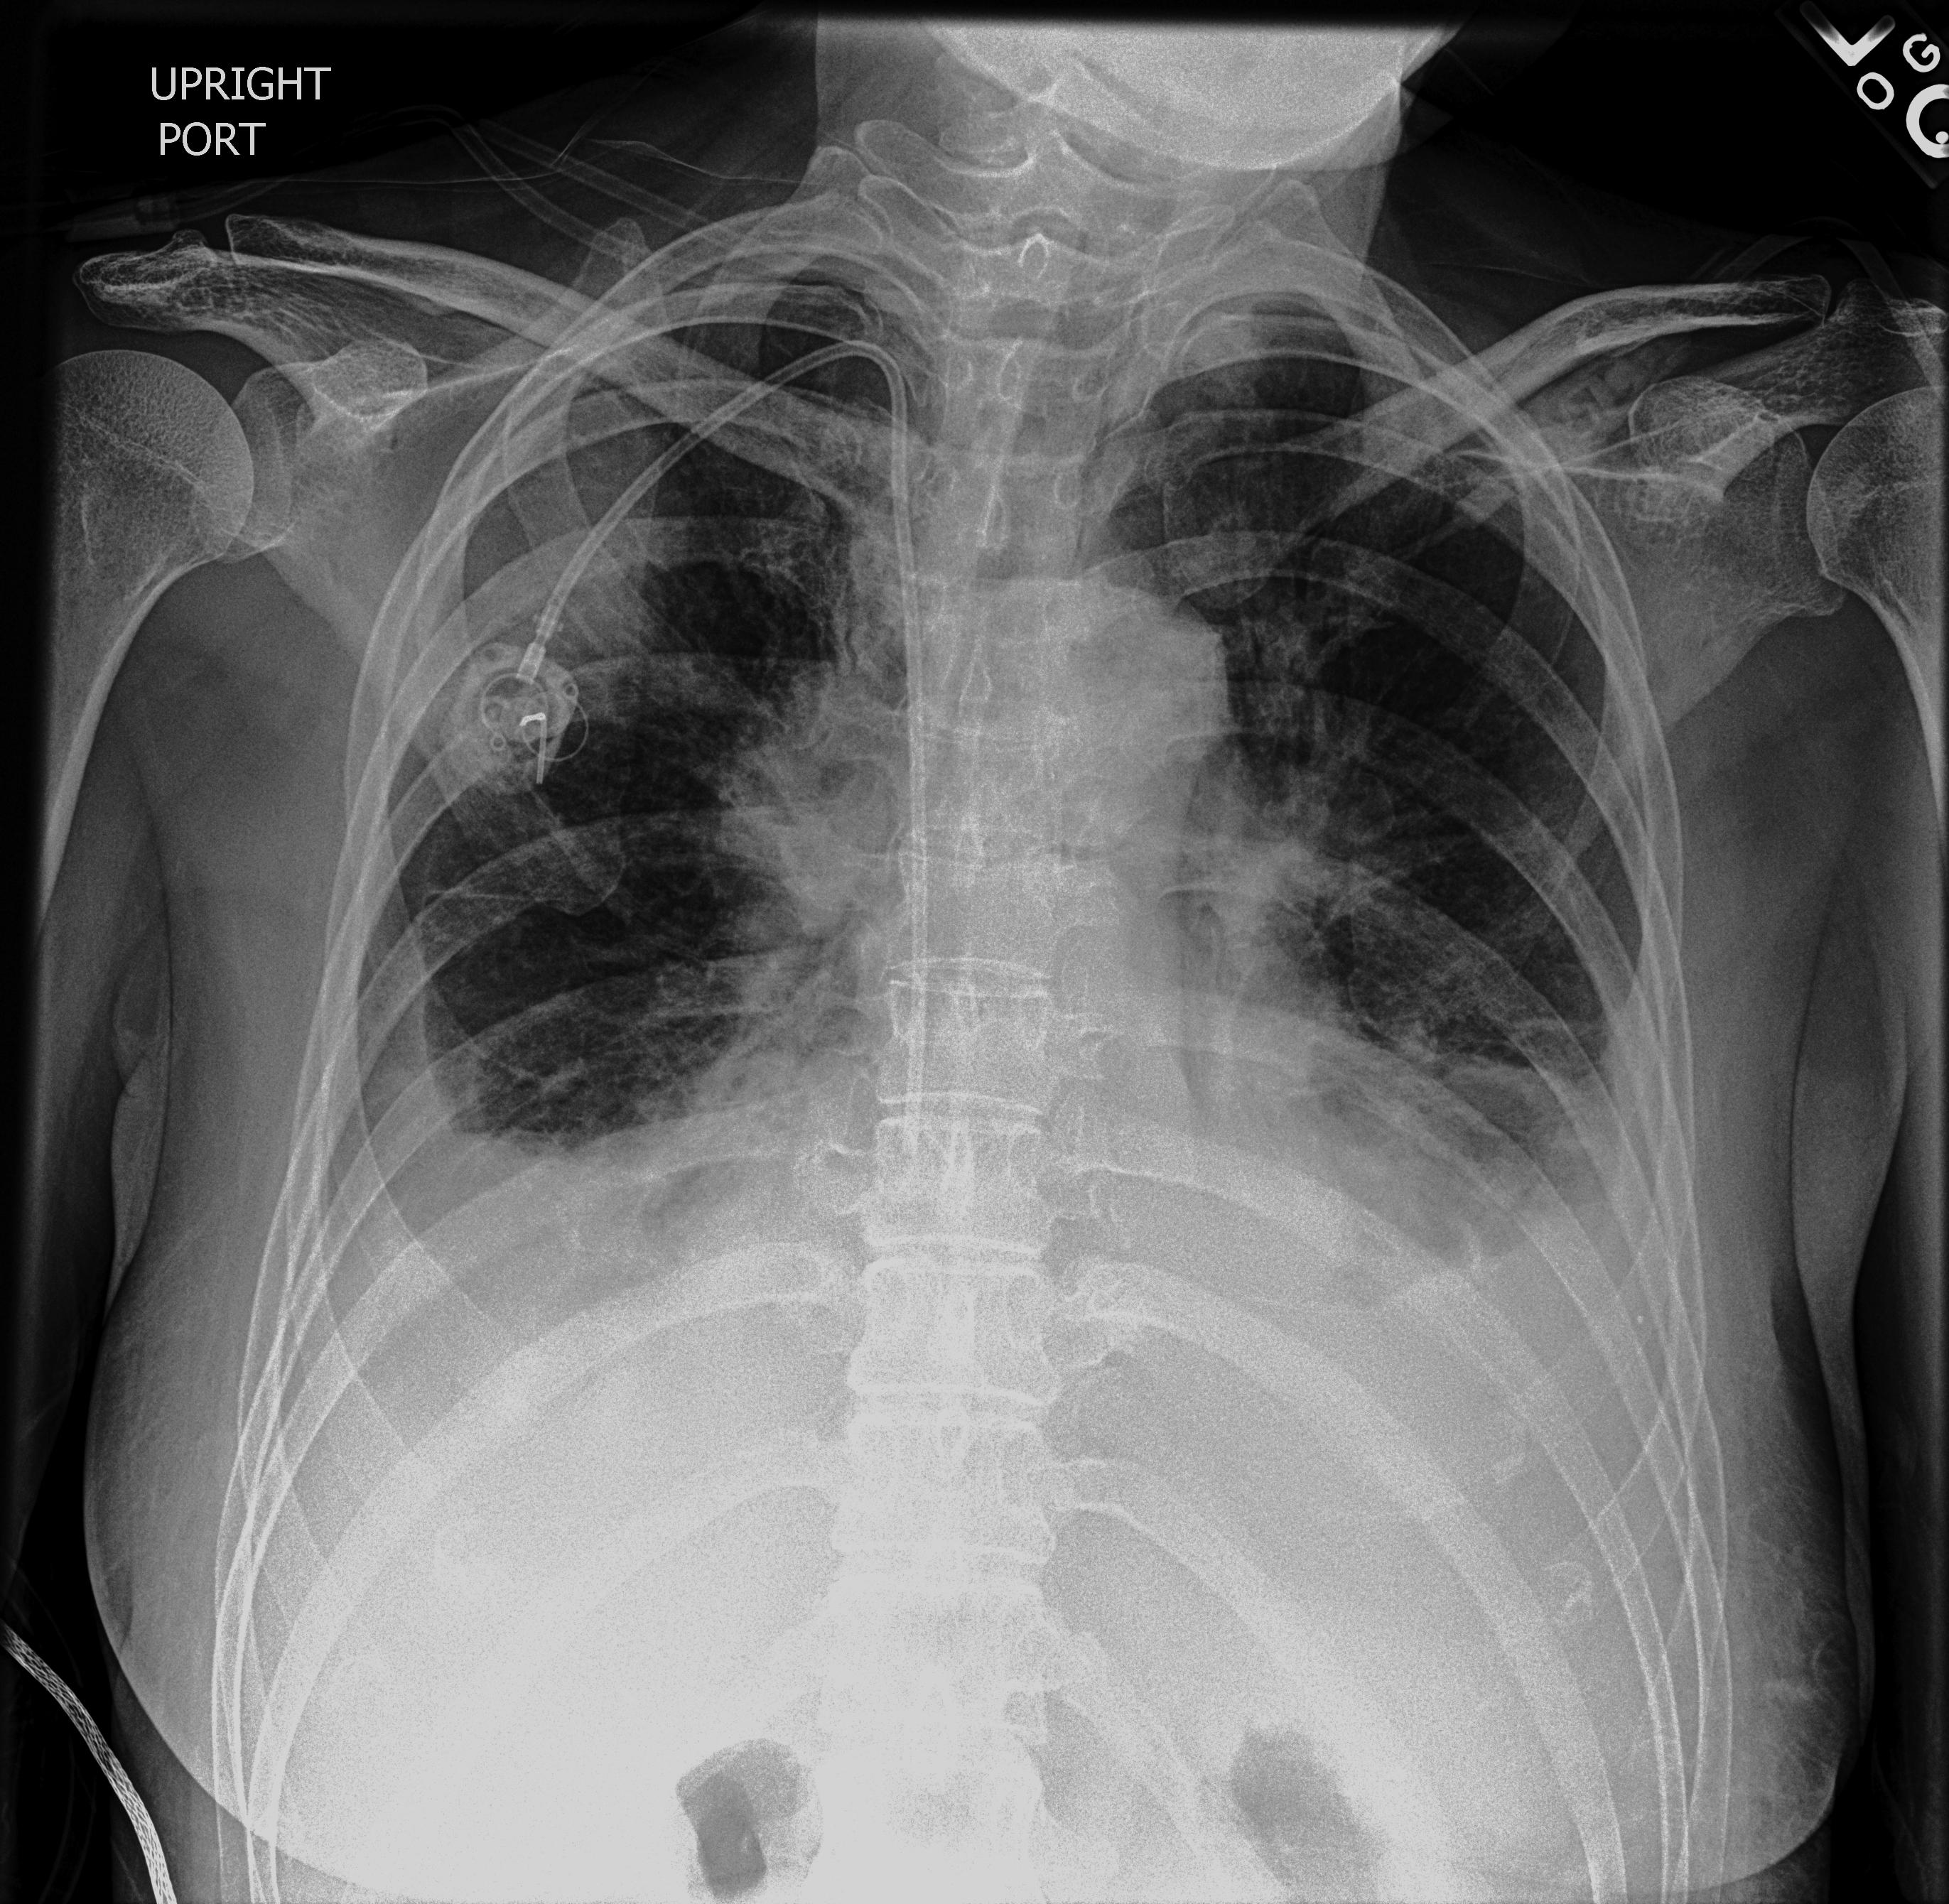Pleural Effusion: (1304, 1071, 1742, 1440), (256, 1105, 723, 1416)
